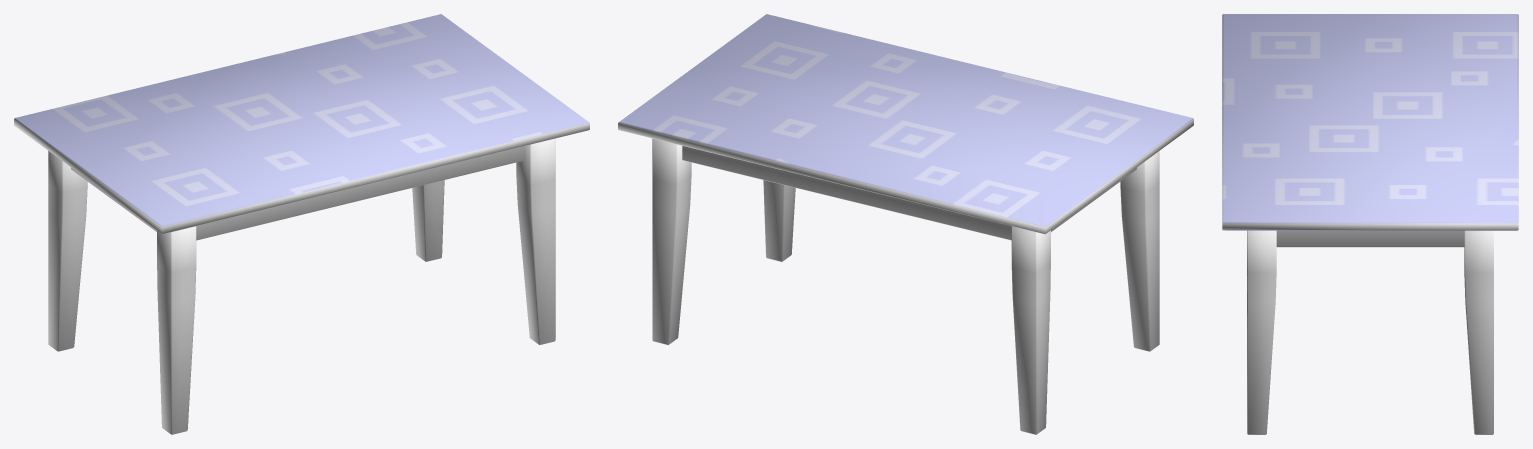
Rendered from Table.fbx.
3 views of the same model, side by side, from view 1: azimuth 30°, elevation 25°; view 2: azimuth 150°, elevation 25°; view 3: azimuth 270°, elevation 25° (orthographic).
Visible parts, largest first — view 1: Plane; view 2: Plane; view 3: Plane.
Boxes of the visible parts, x1,y1,x2,y2 form: Plane: (14, 14, 589, 434); Plane: (618, 14, 1193, 434); Plane: (1222, 14, 1518, 434).
Bounding box in the file's own units: 160 × 80 × 96.
